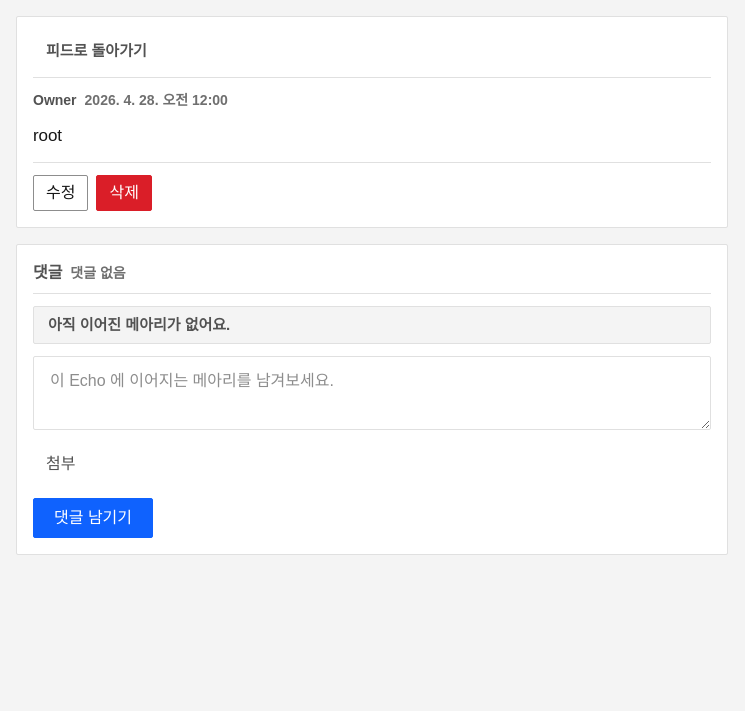
EchoDetailPage › 수정 성공 후 상세를 다시 불러온다
Expected: the text "root" is shown, [33,126,62,145]
Click the button "수정": (61, 193) [33,175,88,211]
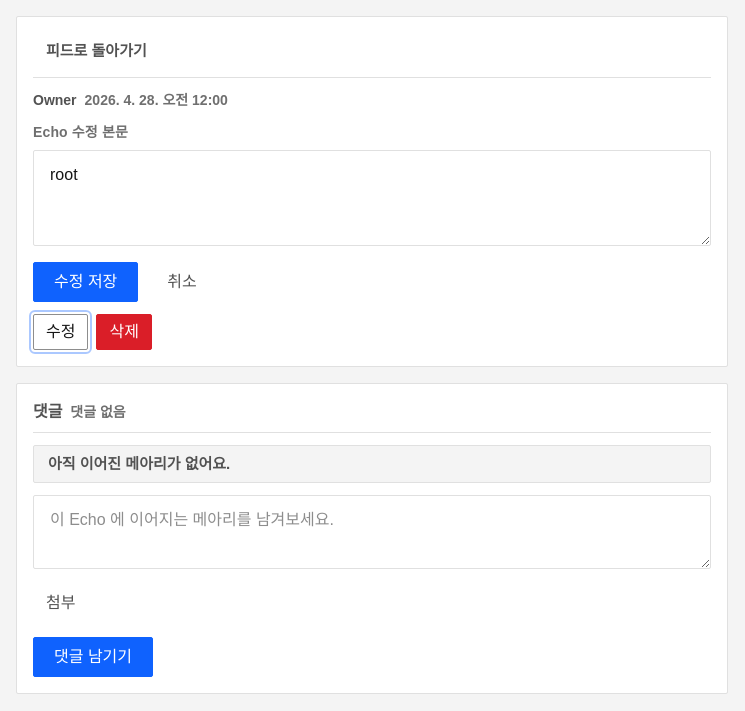
Replace the text in the text box labelled "Echo 수정 본문" with "updated": (372, 198) [33,150,711,246]
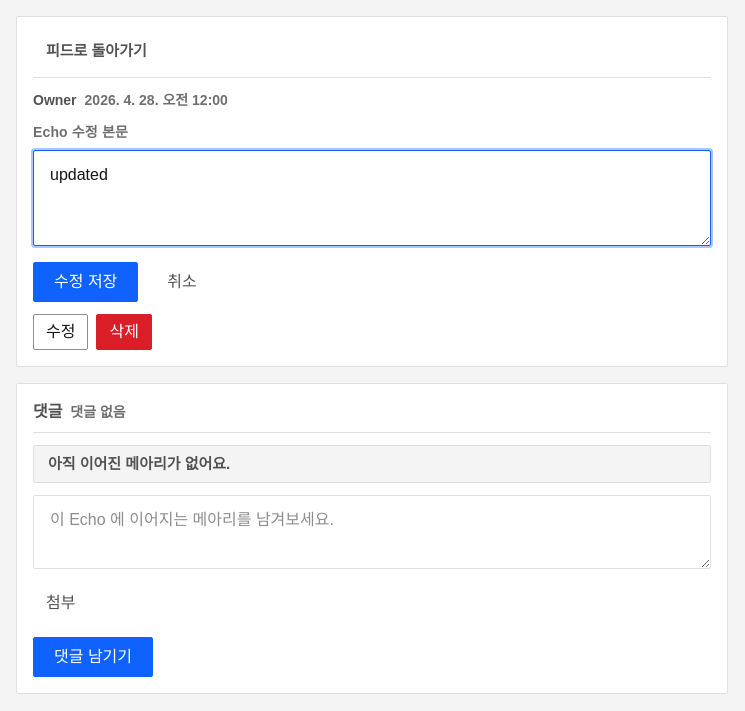
Click the button "수정 저장": (86, 282) [33,262,138,302]
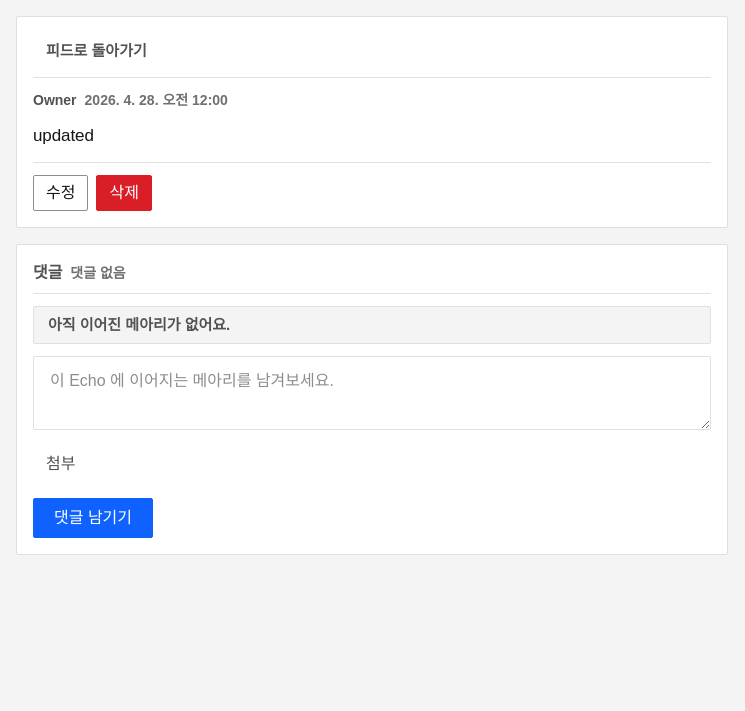
Result: the text "updated" is shown at [33,126,94,145]
